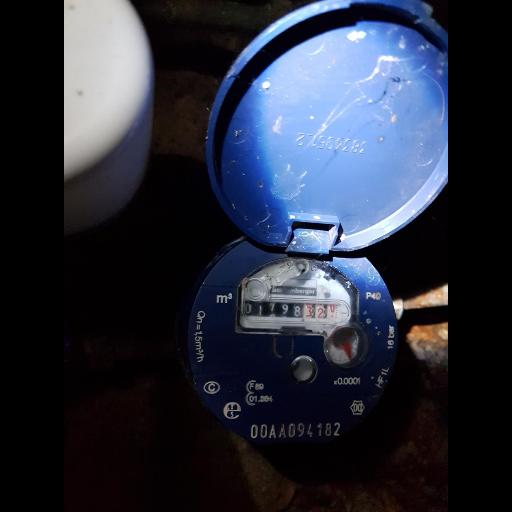0: (326, 303, 338, 319), (244, 301, 254, 317)
1: (254, 301, 266, 317)
2: (314, 303, 326, 319)
3: (302, 304, 314, 319)
7: (266, 303, 279, 318)
8: (292, 303, 303, 318)
9: (279, 302, 292, 318)
border_water_meter_number: (240, 297, 352, 326)
